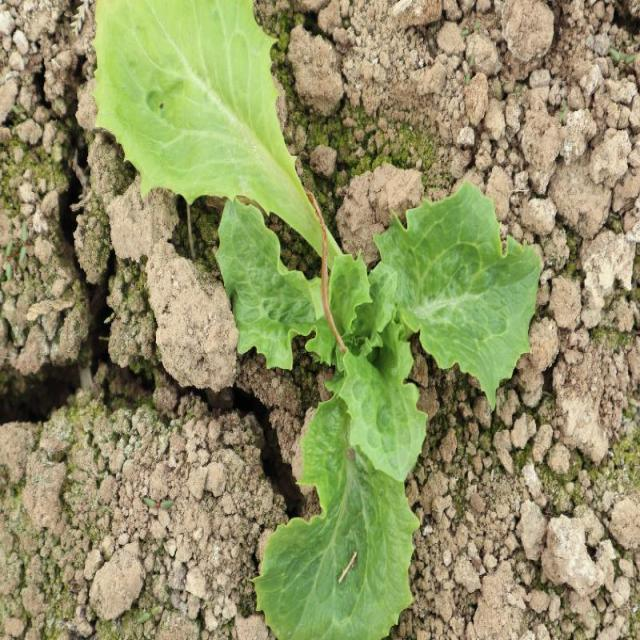crop: (93, 2, 544, 640)
